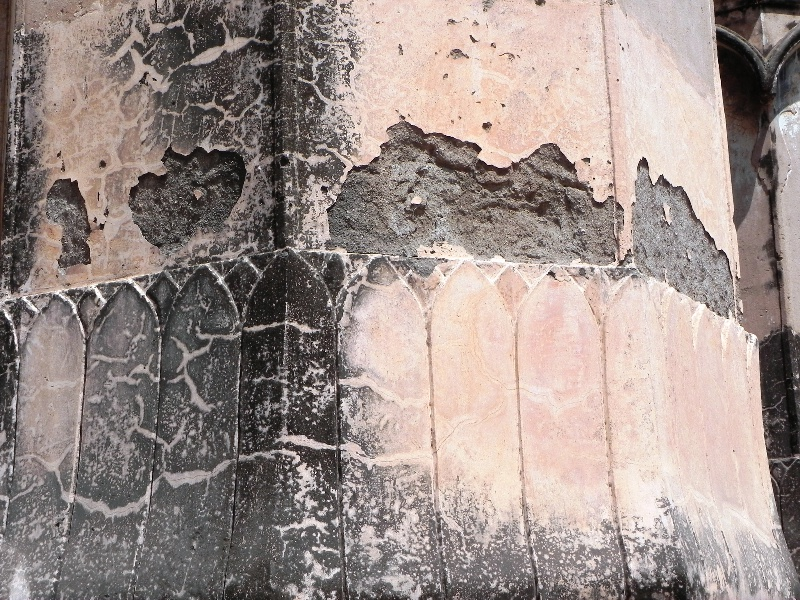Spalling: (316, 114, 619, 270), (627, 145, 734, 323), (125, 137, 245, 253), (42, 170, 99, 276)
